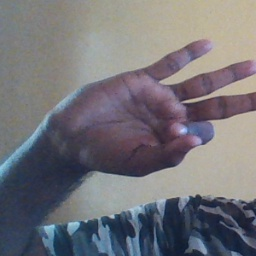K: (51, 38, 256, 179)
